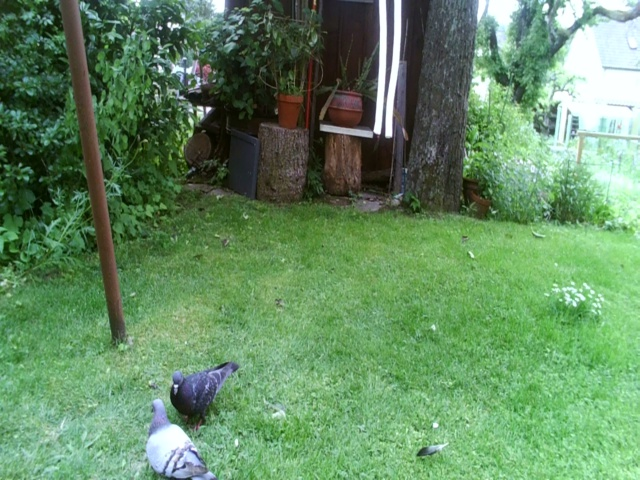Pigeon: (141, 398, 218, 480), (166, 360, 247, 427)
